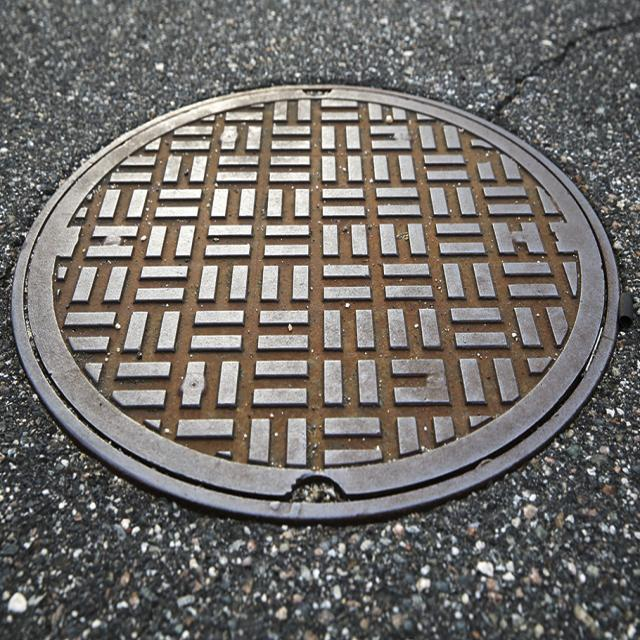manhole: (7, 85, 622, 523)
